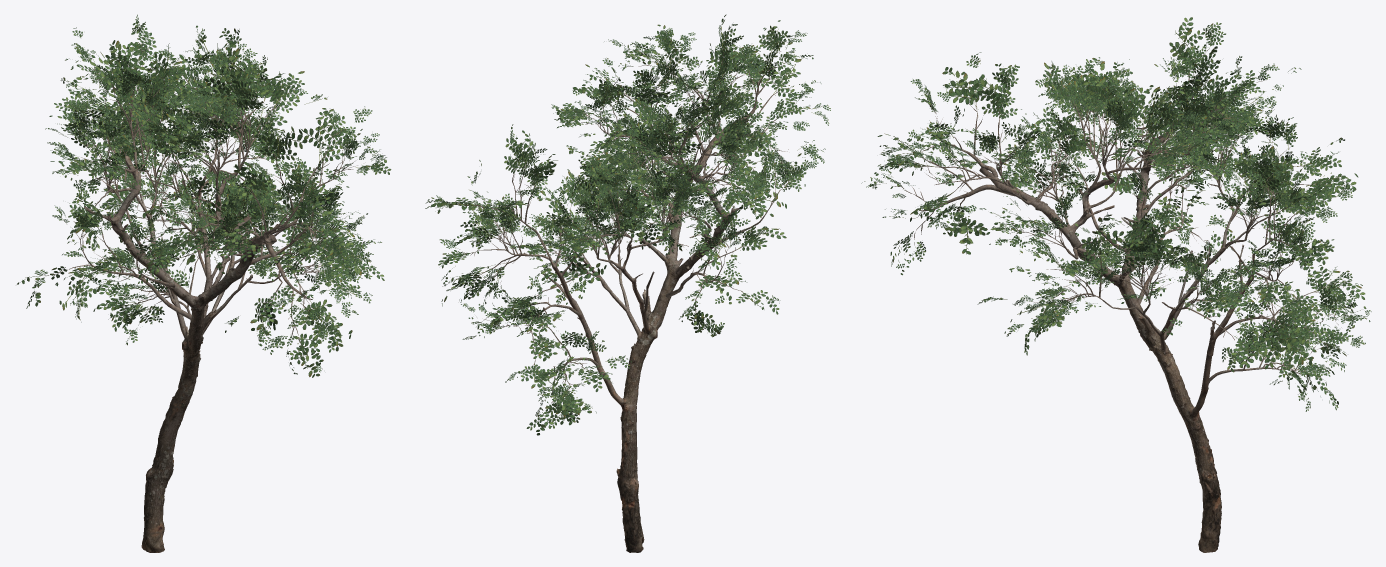
Rendered from boom_loofboom.gltf.
3 views of the same model, side by side, from view 1: azimuth 30°, elevation 25°; view 2: azimuth 150°, elevation 25°; view 3: azimuth 270°, elevation 25° (orthographic). The views are drawn at different scales.
Parts seen in each view (by area): view 1: tree_small_02_LOD0; view 2: tree_small_02_LOD0; view 3: tree_small_02_LOD0.
Part boxes in pixels (box(x1,y1,x2,y2)): tree_small_02_LOD0: box(17, 14, 391, 552); tree_small_02_LOD0: box(425, 14, 830, 552); tree_small_02_LOD0: box(861, 17, 1371, 552).
Size of the model in its own units: 2.95 by 4.58 by 4.28.
Materials: 3 (3 with a texture image).
